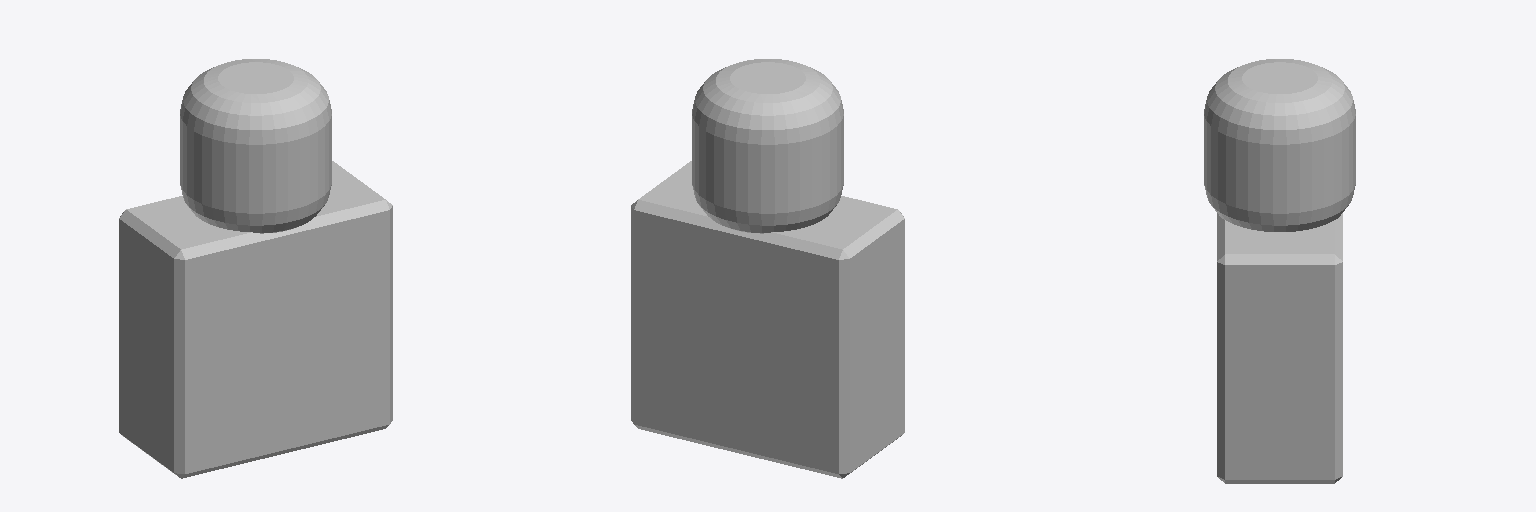
Rendered from few2.obj.
The picture shows the model from 3 angles: view 1: azimuth 30°, elevation 25°; view 2: azimuth 150°, elevation 25°; view 3: azimuth 270°, elevation 25°; orthographic projection.
Parts seen in each view (by area): view 1: few; view 2: few; view 3: few.
Boxes of the visible parts, x1,y1,x2,y2 form: few: [119, 59, 392, 478]; few: [631, 59, 904, 478]; few: [1204, 59, 1355, 483].
Size of the model in its own units: 2 by 3.1 by 1.2.